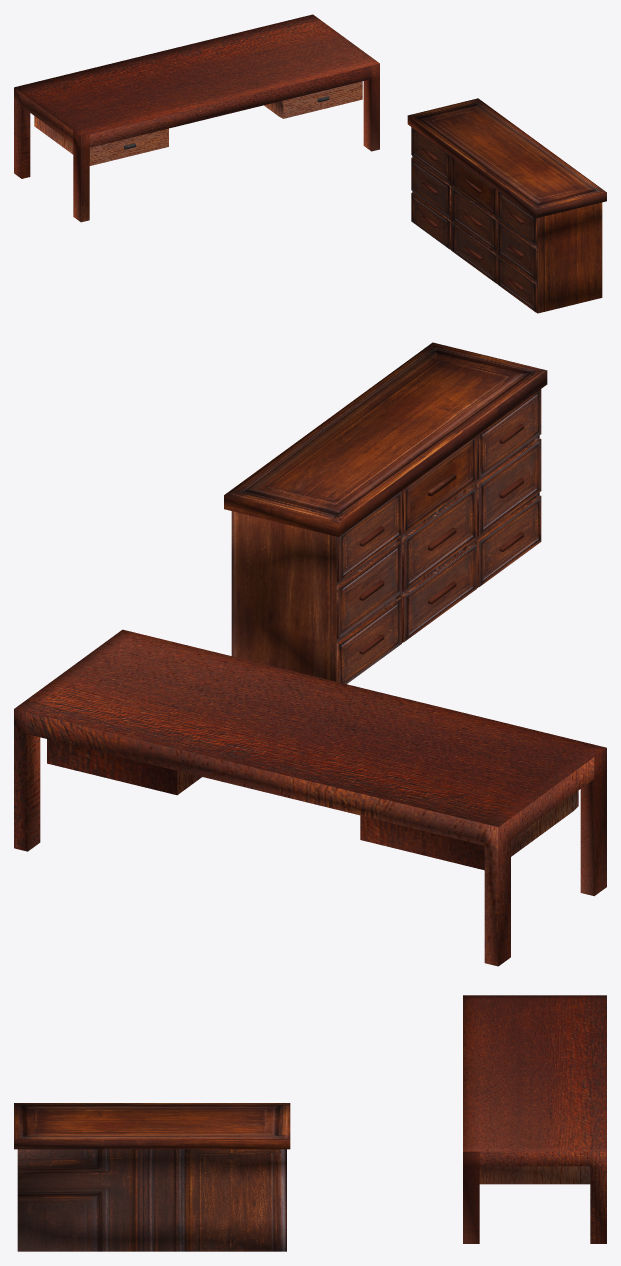
File: Studio.fbx
The picture shows the model from 3 angles, top to bottom: view 1: azimuth 30°, elevation 25°; view 2: azimuth 150°, elevation 25°; view 3: azimuth 270°, elevation 25°; orthographic projection. The views are drawn at different scales.
Parts seen in each view (by area): view 1: Desk_01, Desk_02, Drawer; view 2: Desk_01, Desk_02, Drawer; view 3: Desk_02, Desk_01.
Boxes of the visible parts, x1=… form: Desk_01: x1=14, y1=14, x2=379, y2=222; Desk_02: x1=407, y1=98, x2=606, y2=313; Drawer: x1=451, y1=156, x2=497, y2=217; Desk_01: x1=14, y1=629, x2=606, y2=966; Desk_02: x1=224, y1=342, x2=547, y2=684; Drawer: x1=402, y1=436, x2=476, y2=534; Desk_02: x1=14, y1=1103, x2=290, y2=1251; Desk_01: x1=463, y1=995, x2=606, y2=1243.
Bounding box in the file's own units: 316 × 101 × 477.
